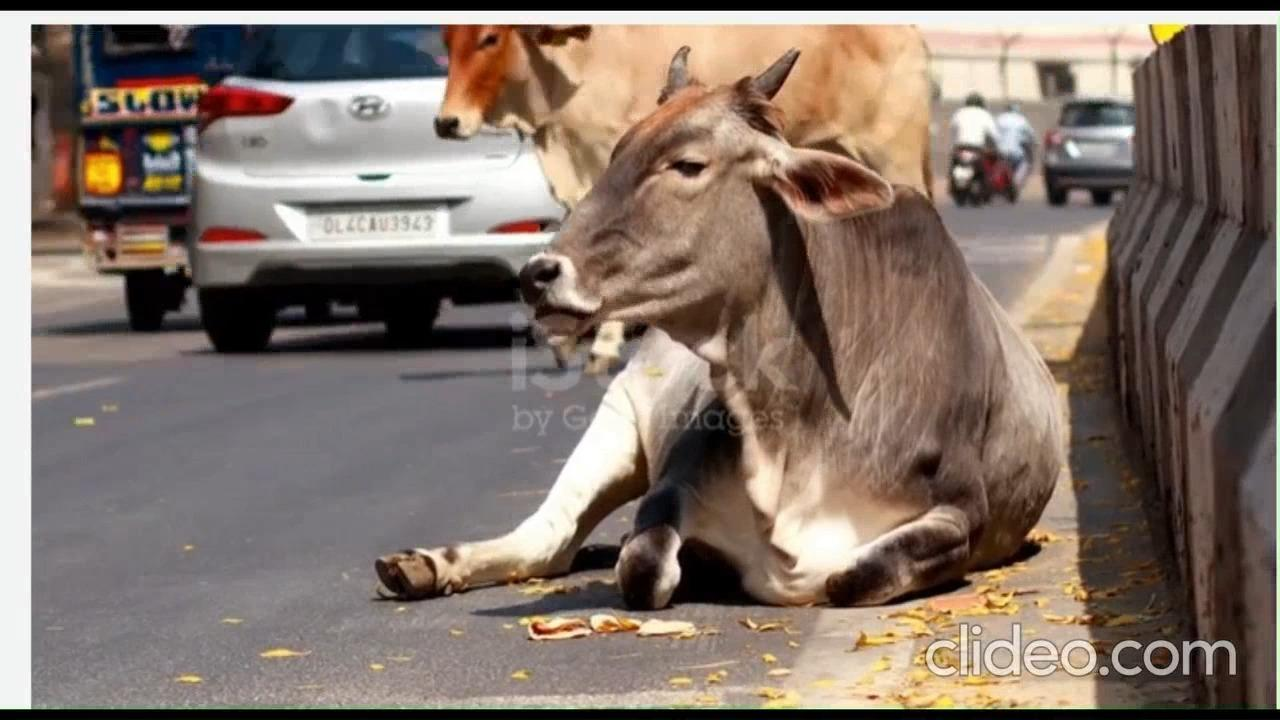Cow: (384, 42, 1067, 605), (424, 28, 935, 199)
